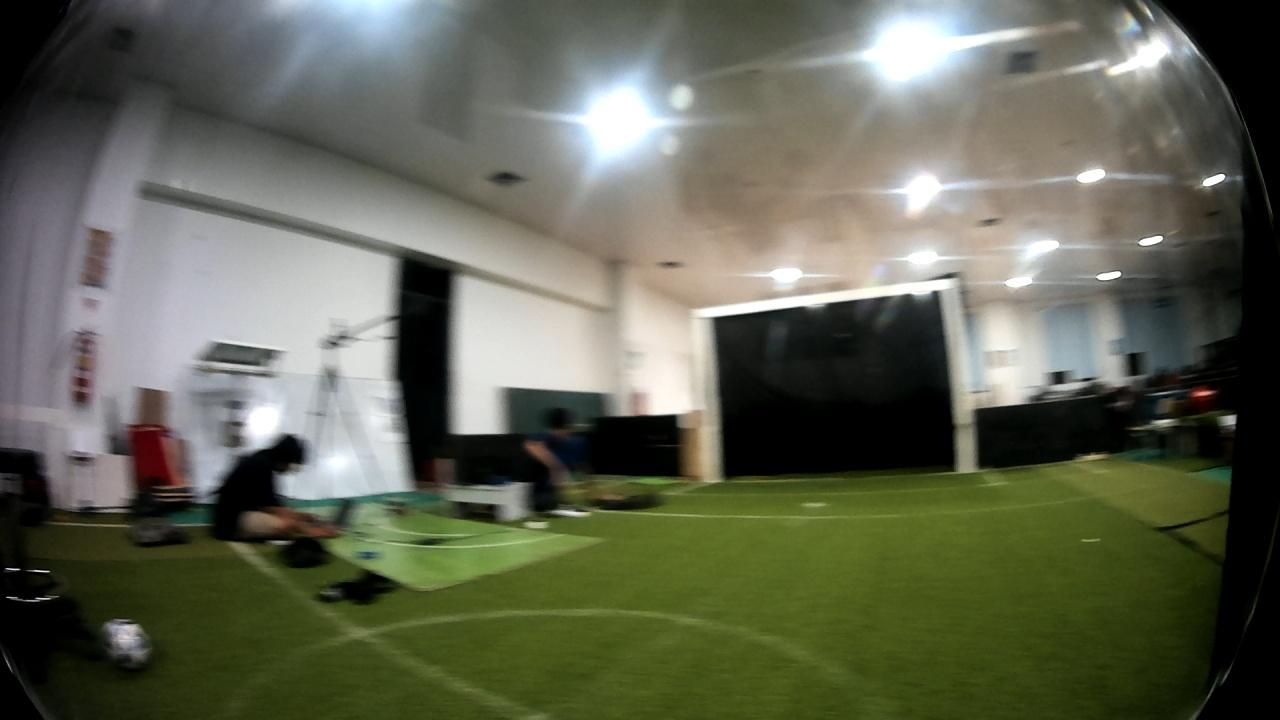ball: (89, 611, 158, 677)
